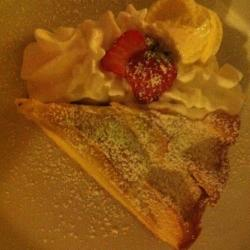apple_pie: (15, 91, 235, 245)
chantilly: (21, 23, 239, 107)
icecream: (137, 1, 228, 71)
